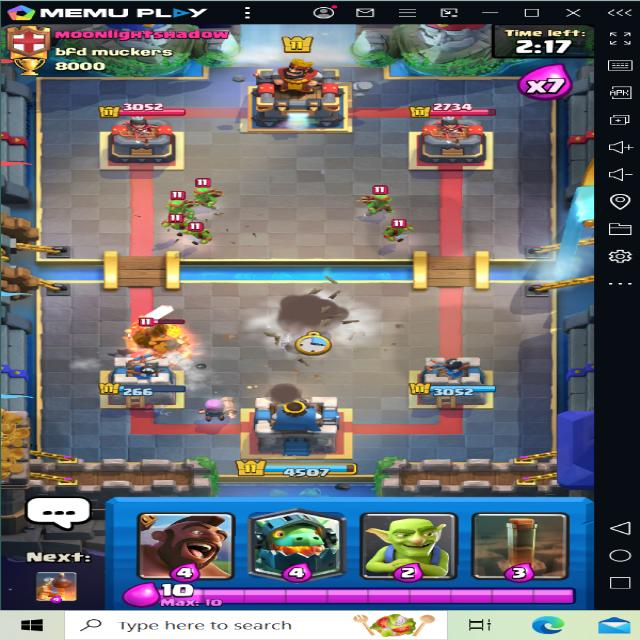Goblin: (382, 213, 418, 245), (183, 217, 219, 246), (163, 207, 193, 236)
Goldenknight: (125, 318, 211, 362)
Speargoblin: (260, 146, 298, 180), (353, 185, 392, 216), (222, 158, 262, 188)
